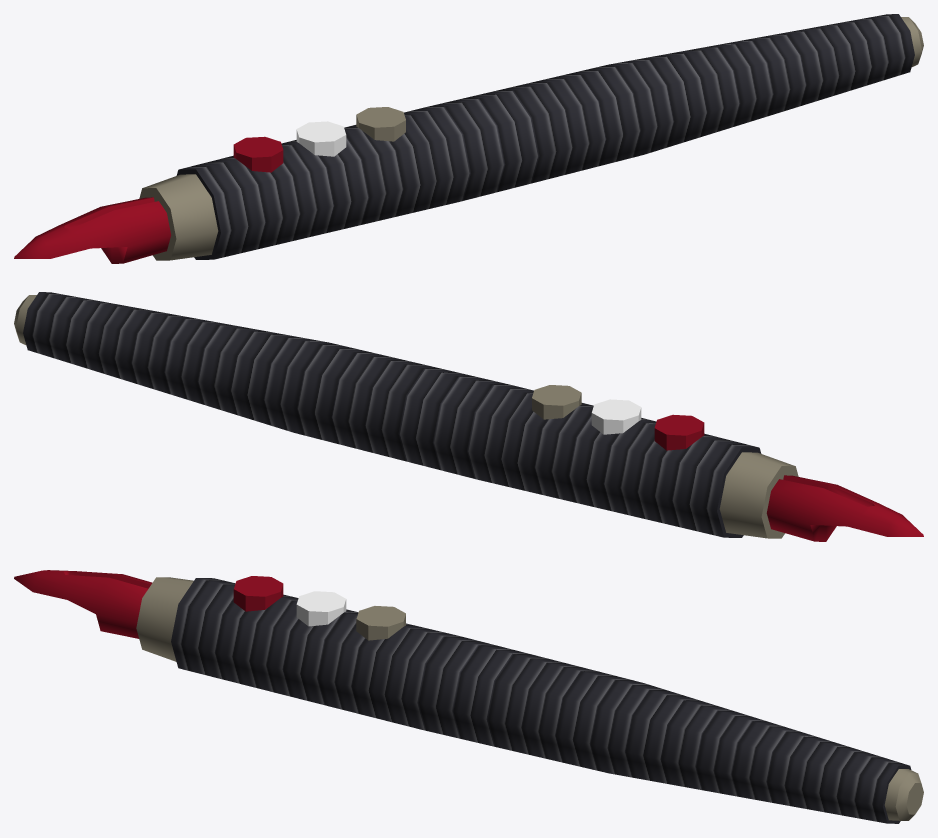
File: Pen01.fbx
3 views of the same model, one above another, from view 1: azimuth 30°, elevation 25°; view 2: azimuth 150°, elevation 25°; view 3: azimuth 330°, elevation 25° (orthographic).
Parts seen in each view (by area): view 1: Pen01; view 2: Pen01; view 3: Pen01.
Boxes of the visible parts, x1=… form: Pen01: x1=14, y1=14, x2=923, y2=263; Pen01: x1=14, y1=292, x2=923, y2=541; Pen01: x1=14, y1=570, x2=923, y2=823.
Size of the model in its own units: 2 by 0.2107 by 0.2006.
